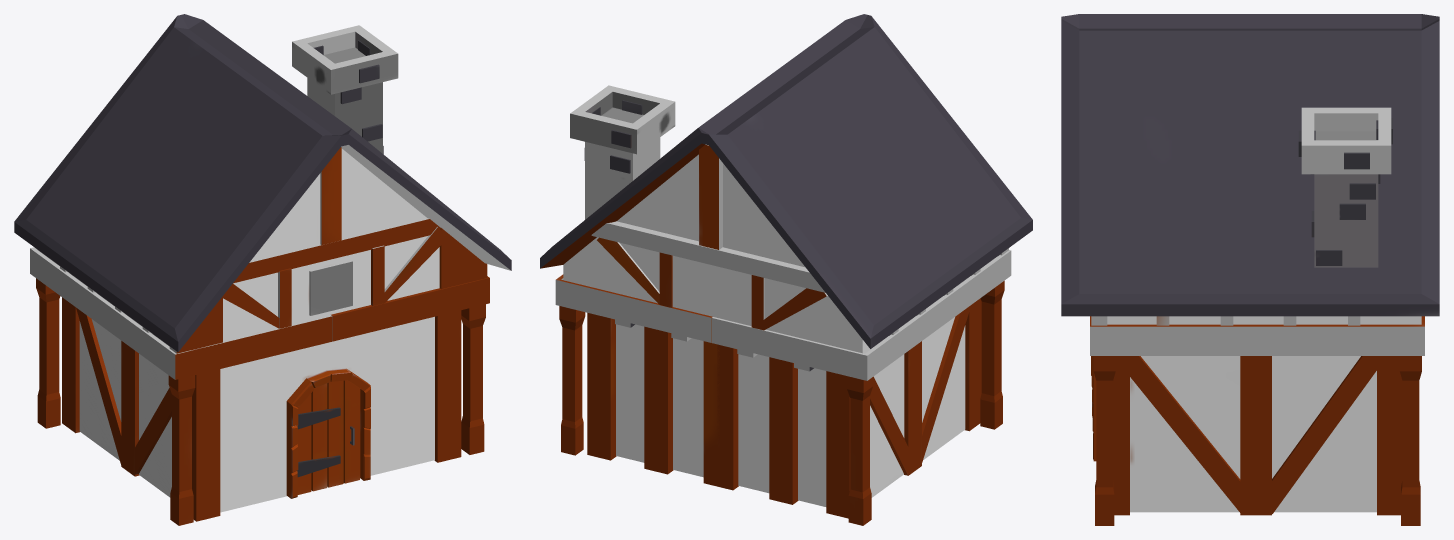
The model's file is Low Poly House.fbx.
The picture shows the model from 3 angles, left to right: view 1: azimuth 30°, elevation 25°; view 2: azimuth 150°, elevation 25°; view 3: azimuth 270°, elevation 25°; orthographic projection. The views are drawn at different scales.
Parts seen in each view (by area): view 1: Low Poly House; view 2: Low Poly House; view 3: Low Poly House.
Boxes of the visible parts, left/top/right/bottom form: Low Poly House: left=14, top=14, right=511, bottom=525; Low Poly House: left=540, top=14, right=1032, bottom=525; Low Poly House: left=1061, top=14, right=1439, bottom=525.
Size of the model in its own units: 1386 by 1454 by 1180.
